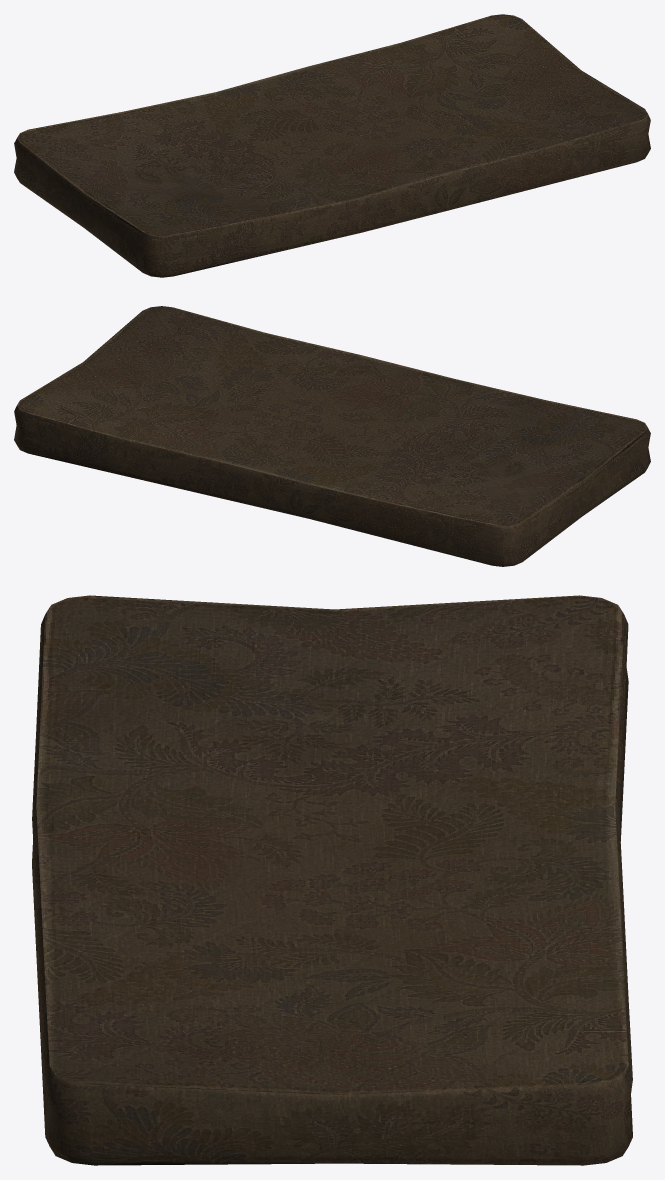
The model's file is old_mattress_mp_1_1.glb.
3 renders of one model, top to bottom at view 1: azimuth 30°, elevation 25°; view 2: azimuth 150°, elevation 25°; view 3: azimuth 270°, elevation 25°, orthographic. The views are drawn at different scales.
Parts seen in each view (by area): view 1: old_mattress_mp_1_1; view 2: old_mattress_mp_1_1; view 3: old_mattress_mp_1_1.
Part boxes in pixels (x1,y1,x2,y2): old_mattress_mp_1_1: [14, 14, 650, 277]; old_mattress_mp_1_1: [14, 306, 650, 566]; old_mattress_mp_1_1: [32, 595, 632, 1165].
Bounding box in the file's own units: 2.62 × 0.2 × 1.35.
Materials: 1 (1 with a texture image).
